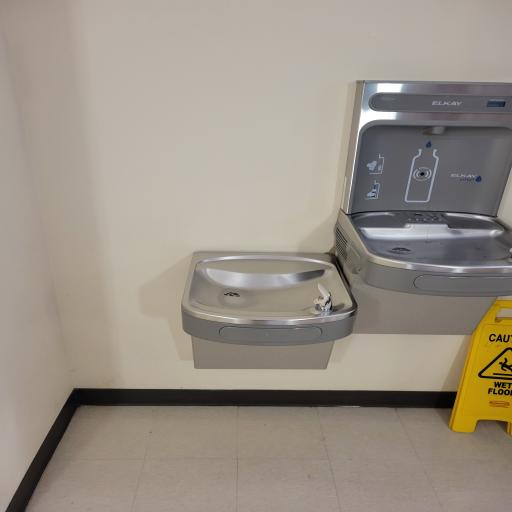water fountain: (348, 72, 503, 325), (184, 236, 360, 376)
wet floor sign: (449, 298, 512, 430)
